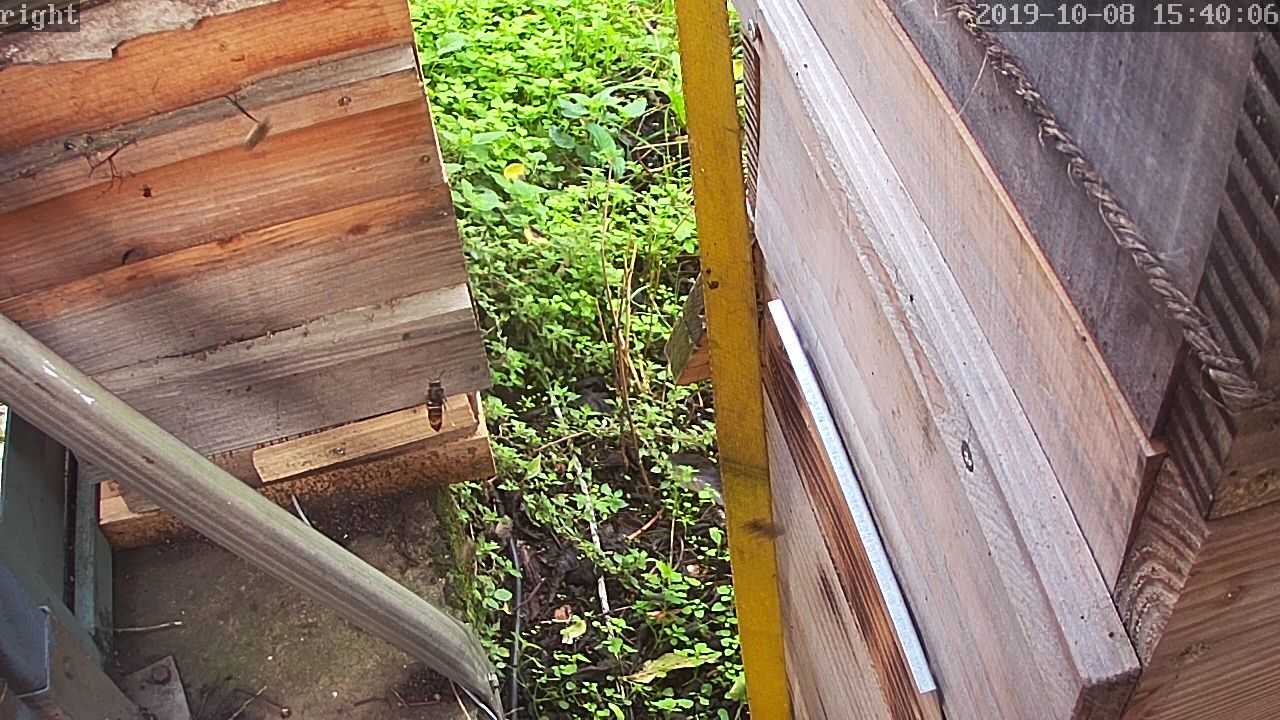hornet: (420, 374, 456, 440)
